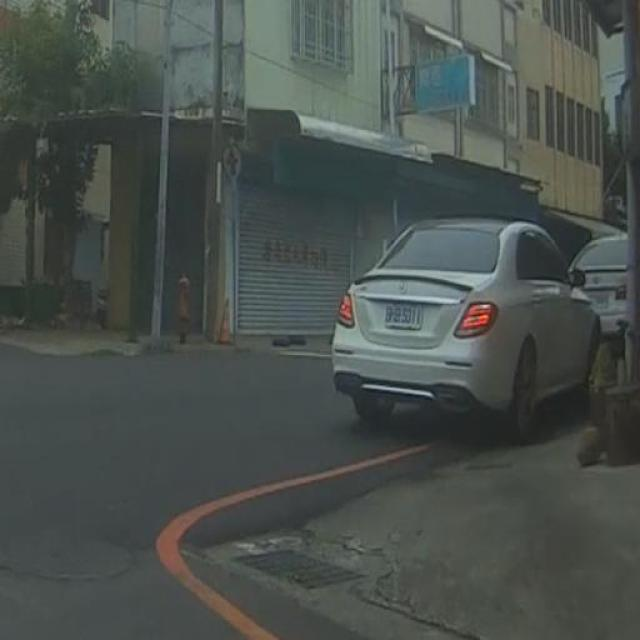illegalparking: (332, 219, 625, 440)
